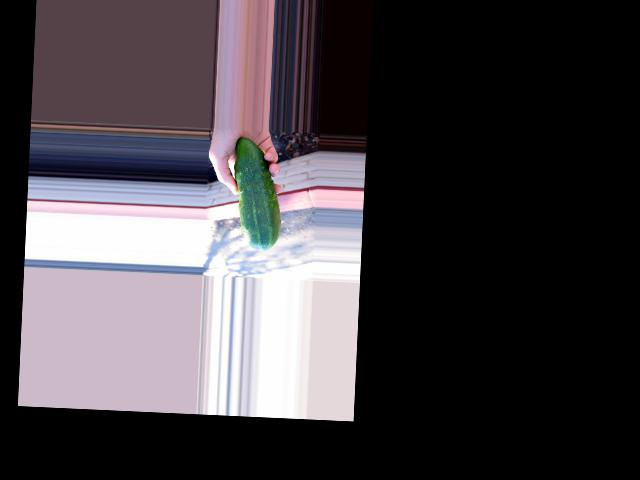cucumber: (231, 137, 285, 250)
